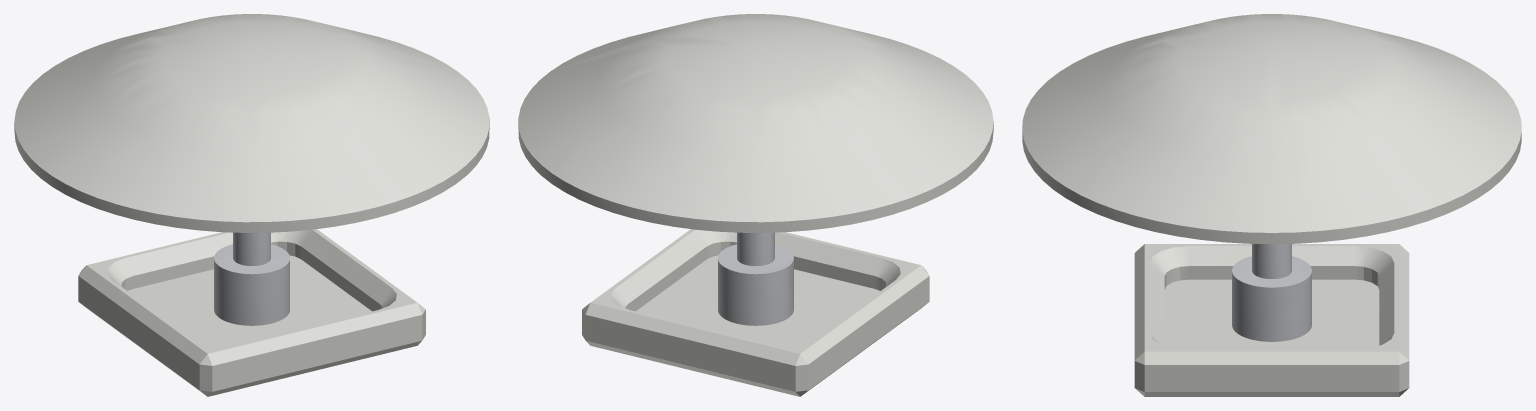
Rendered from ax_power_14_high_gain_dish_s.glb.
The picture shows the model from 3 angles, left to right: view 1: azimuth 30°, elevation 25°; view 2: azimuth 150°, elevation 25°; view 3: azimuth 270°, elevation 25°; orthographic projection. The views are drawn at different scales.
Parts seen in each view (by area): view 1: dish, gimbal_well, gimbal; view 2: dish, gimbal_well, gimbal; view 3: dish, gimbal_well, gimbal.
Part boxes in pixels (x1,y1,x2,y2): dish: (14, 14, 489, 232); gimbal_well: (78, 229, 425, 396); gimbal: (214, 232, 289, 325); dish: (518, 14, 993, 232); gimbal_well: (582, 229, 929, 396); gimbal: (718, 232, 793, 325); dish: (1022, 14, 1521, 244); gimbal_well: (1134, 244, 1409, 396); gimbal: (1232, 244, 1311, 341).
Bounding box in the file's own units: 0.9994 × 0.655 × 0.9997.
Materials: 2 (1 with a texture image).
